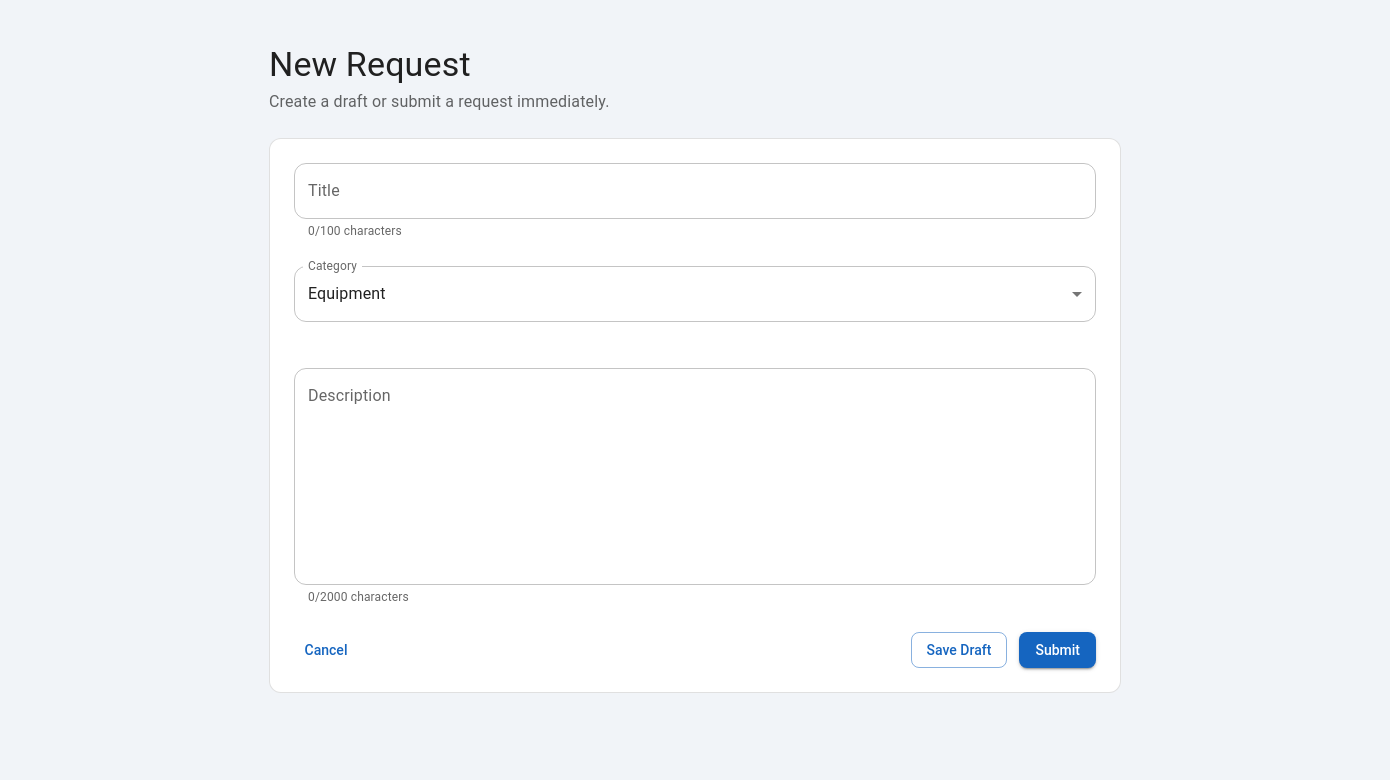
it: CreateRequestPage › creates draft and redirects with flash message
Type "New headset request" into the field labelled "Title" at x=695, y=191, box [294,163,1096,219]
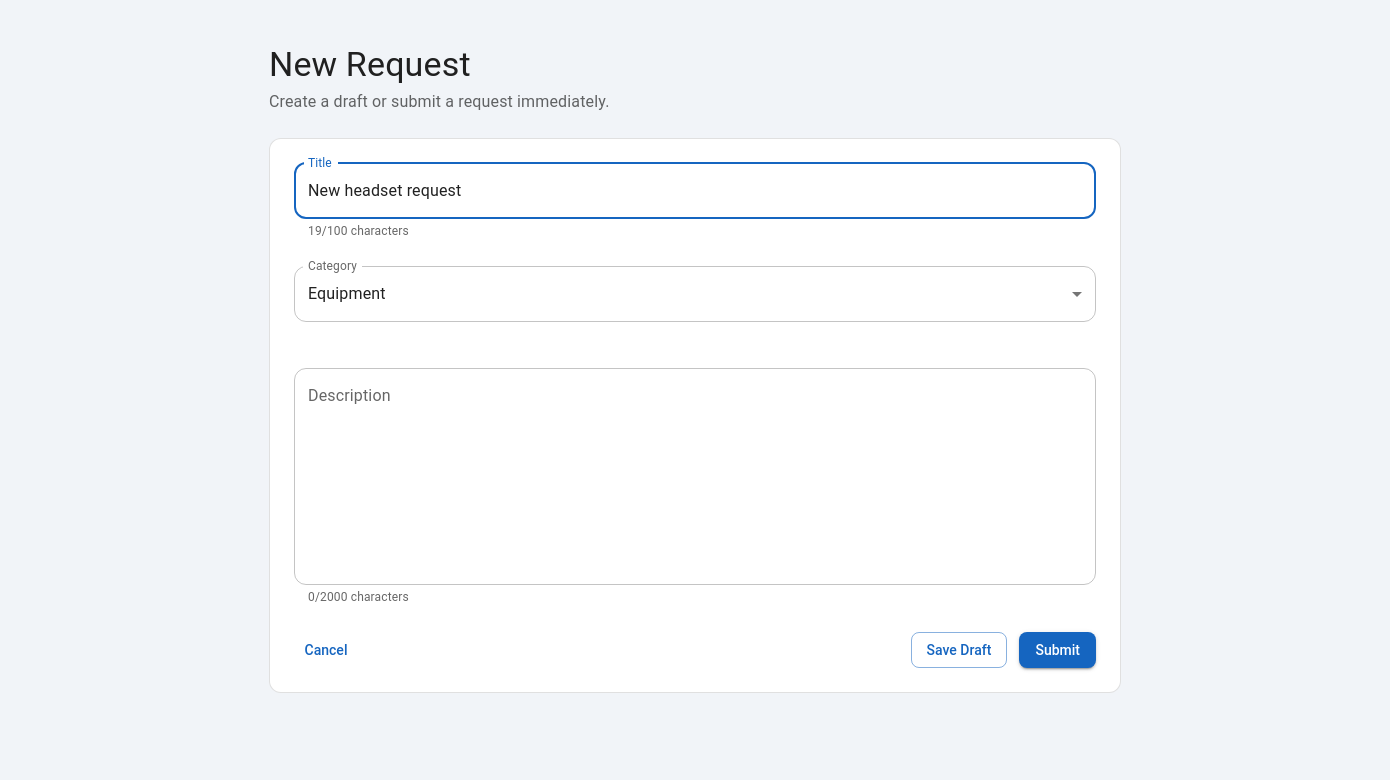
Type "Need headset for daily standups and calls." into the text box labelled "Description" at x=695, y=476, box [308,384,1082,568]
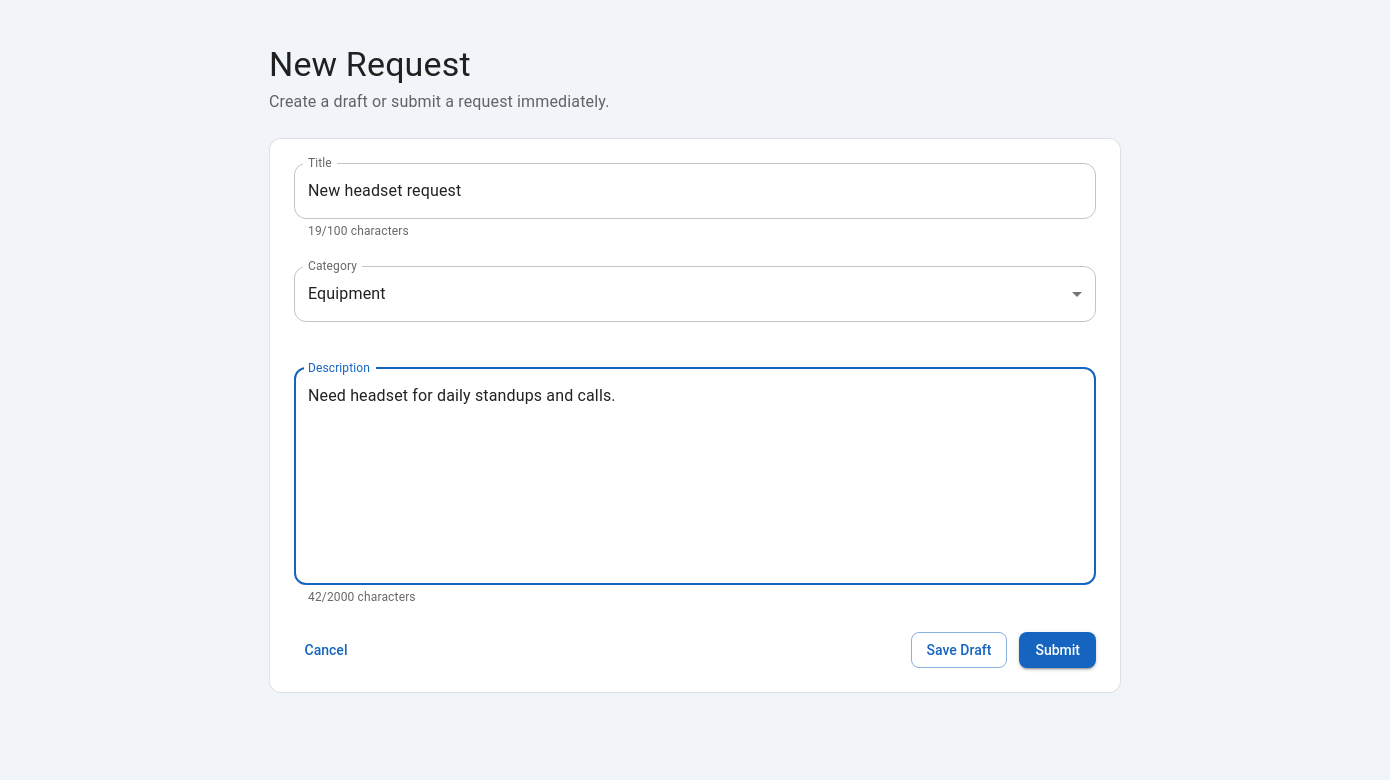
Click the button "Save Draft" at x=959, y=650, box [911,632,1008,668]
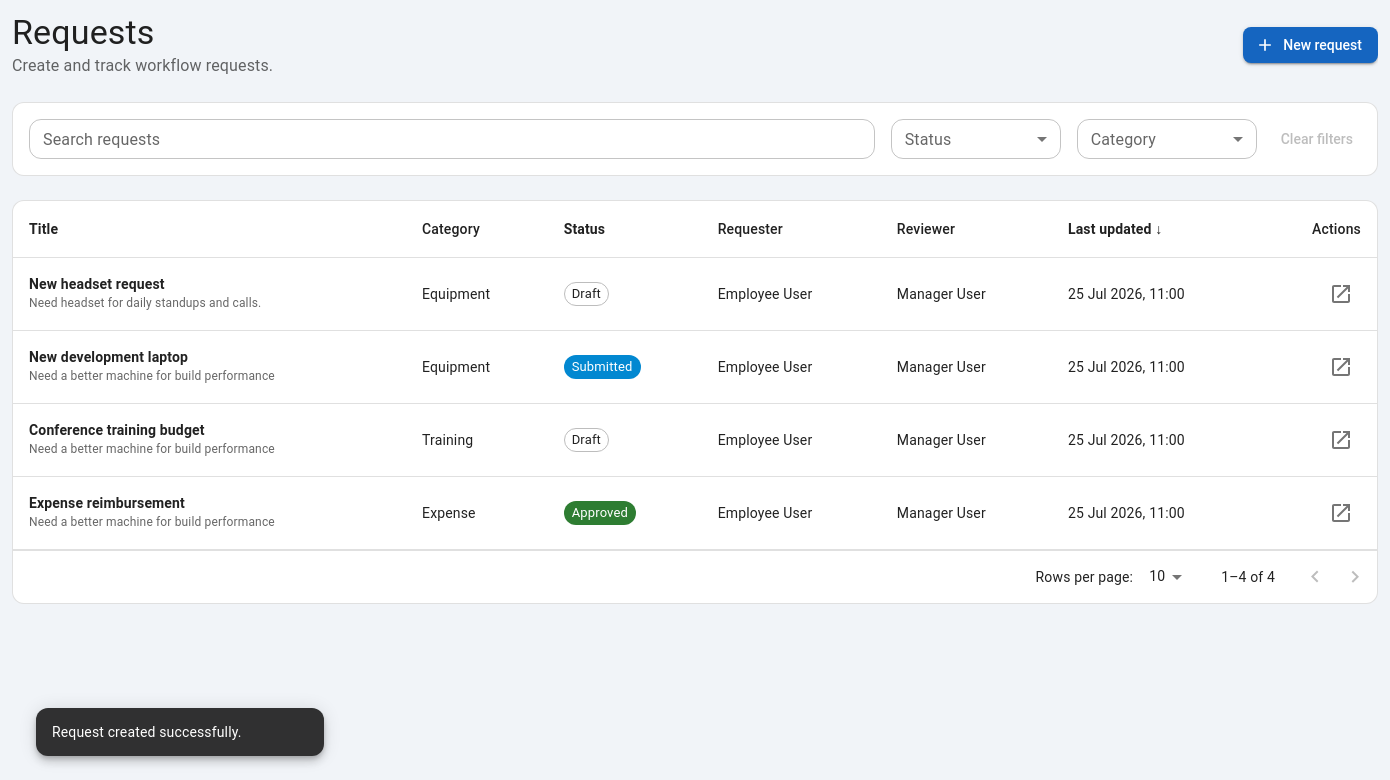
Check: the heading "Requests" is shown, box [12,12,154,52]
